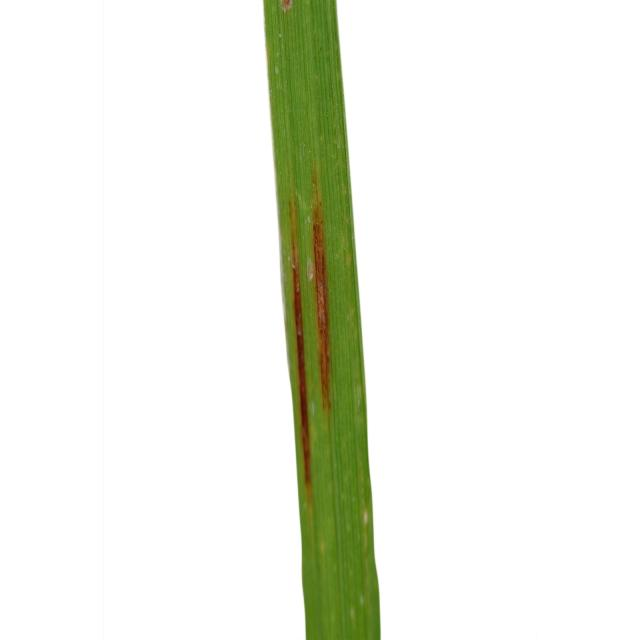Narrow brown: (180, 5, 478, 640)
